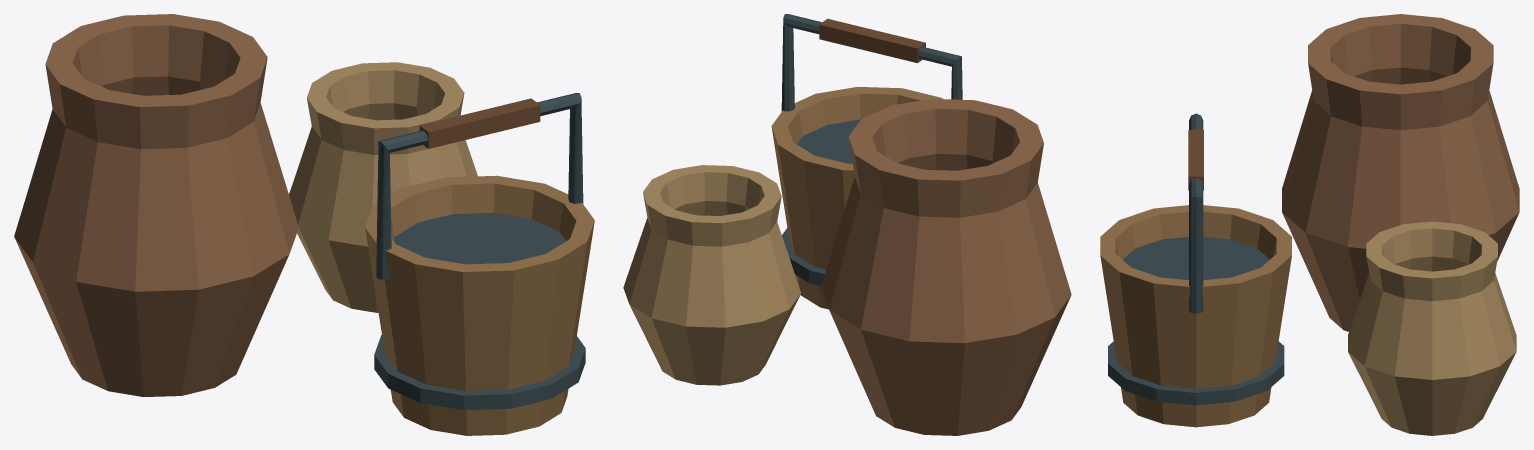
The model's file is Prop_Daily_PotteryBucketSet_001.glb.
The picture shows the model from 3 angles, left to right: view 1: azimuth 30°, elevation 25°; view 2: azimuth 150°, elevation 25°; view 3: azimuth 270°, elevation 25°; orthographic projection. The views are drawn at different scales.
Parts seen in each view (by area): view 1: Prop_Daily_PotteryBucketSet_001; view 2: Prop_Daily_PotteryBucketSet_001; view 3: Prop_Daily_PotteryBucketSet_001.
Boxes of the visible parts, x1,y1,x2,y2 form: Prop_Daily_PotteryBucketSet_001: (14,14,594,435); Prop_Daily_PotteryBucketSet_001: (623,14,1071,435); Prop_Daily_PotteryBucketSet_001: (1100,14,1519,435).
Size of the model in its own units: 1.15 by 0.72 by 1.07.
